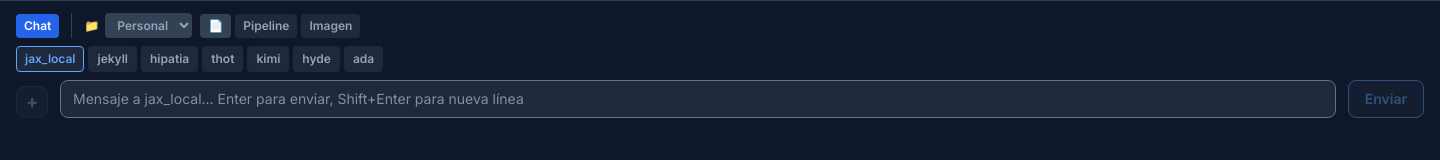
BottomBar -- fila de modos con el selector de proyecto › se ve en Chat y en Pipeline; desaparece en Imagen y vuelve en Chat (E2a/T11)
Expected: the dropdown named "Proyecto" is shown, [105, 13, 192, 38]
Click the button "Pipeline" at (266, 26), box [235, 14, 298, 38]
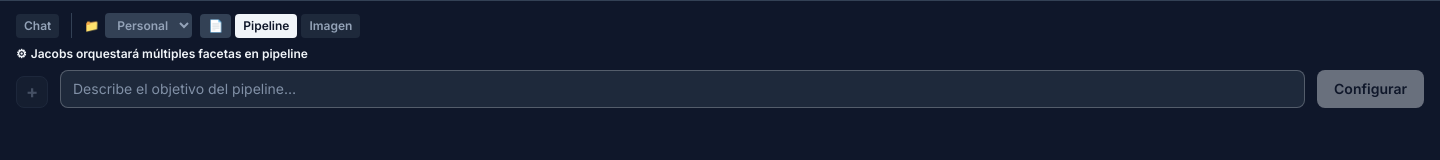
Expected: the dropdown named "Proyecto" is shown, [105, 13, 192, 38]
Click the button "Imagen" at (331, 26), box [302, 14, 360, 38]
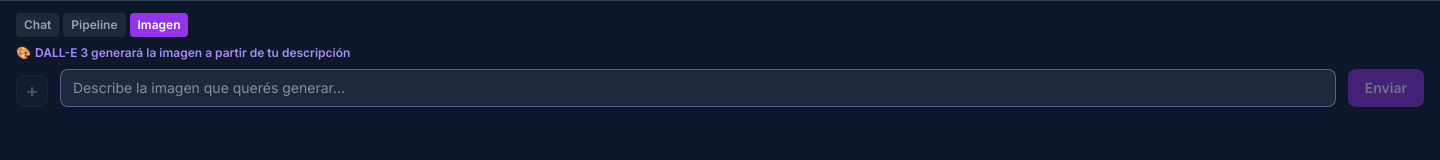
Expected: the field labelled "Proyecto" is not shown
Click the button "Chat" at (38, 25), box [16, 13, 59, 37]
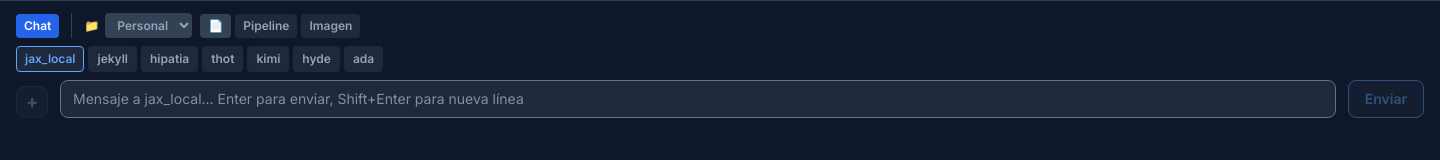
Expected: the dropdown named "Proyecto" is shown, [105, 13, 192, 38]
